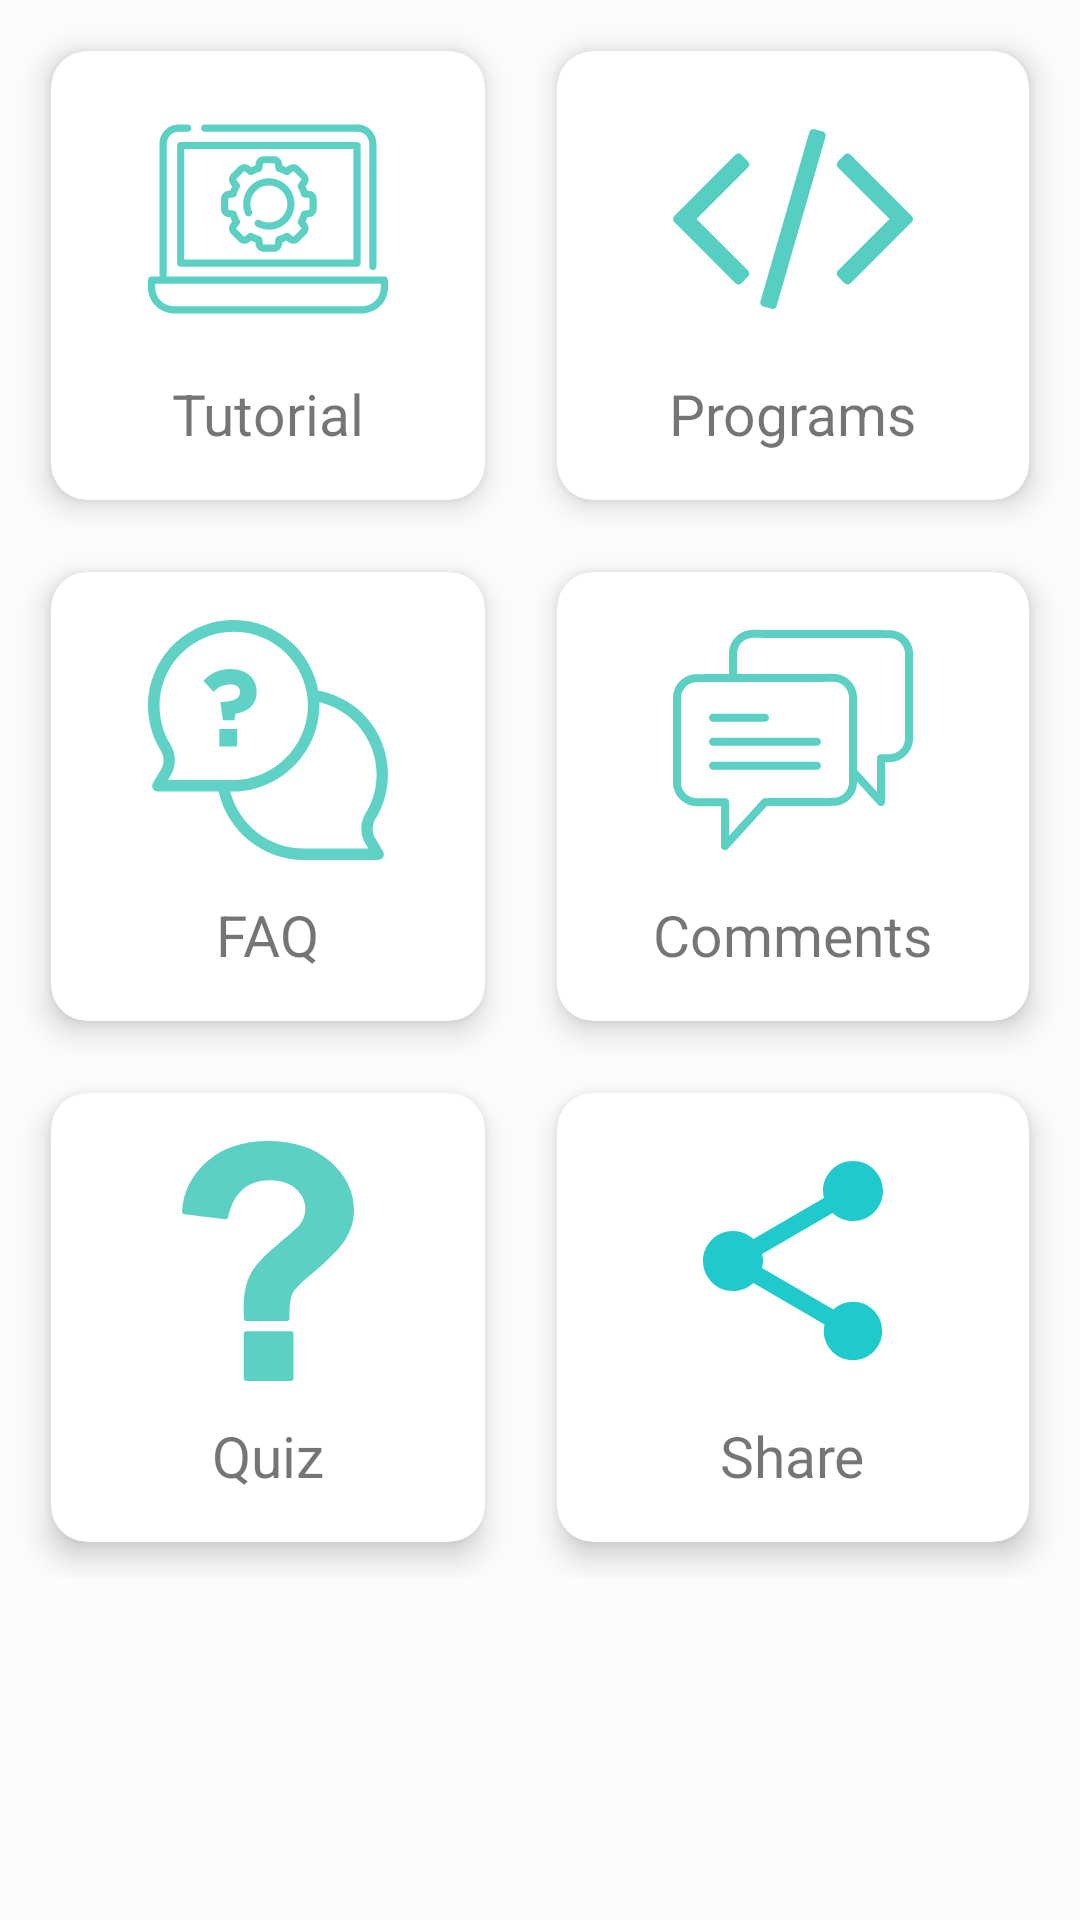

Icon click points for this 1080px×1920px phone screenshot, format (x,y):
chattt: (793,739)
code: (793,219)
conversation: (268,740)
question: (268,1261)
